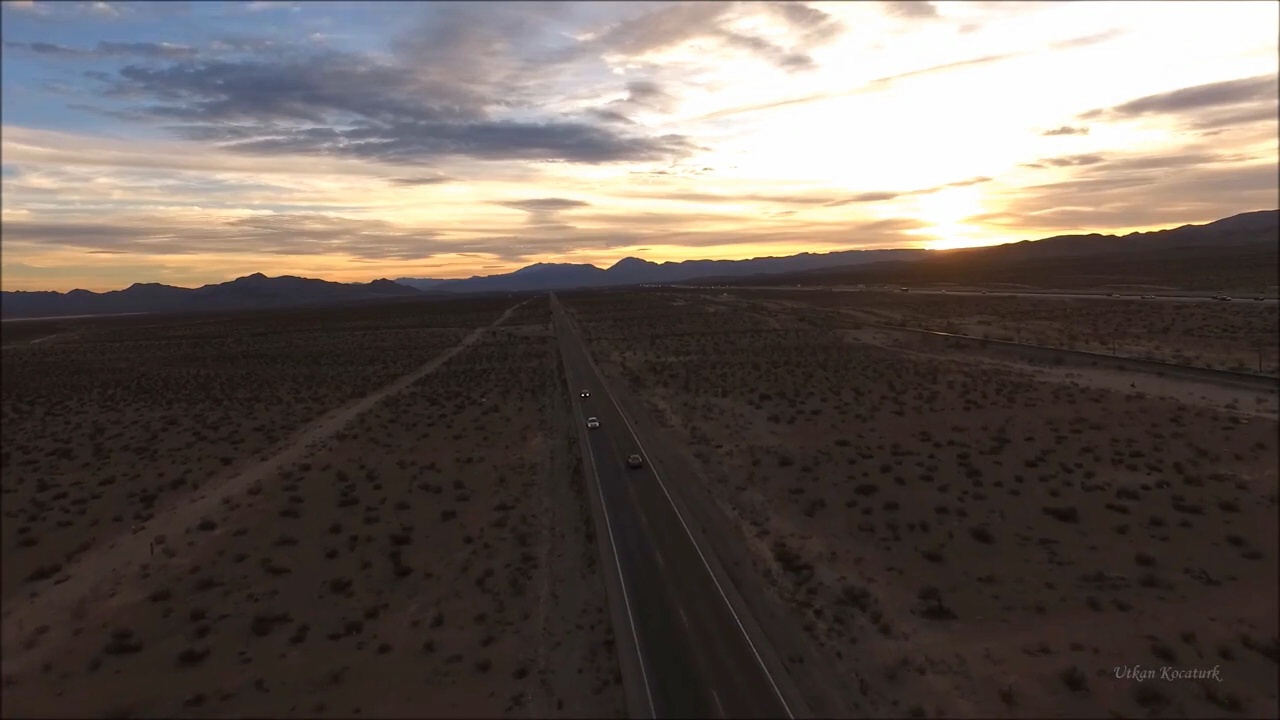araba: (622, 451, 645, 470), (584, 416, 600, 430)
